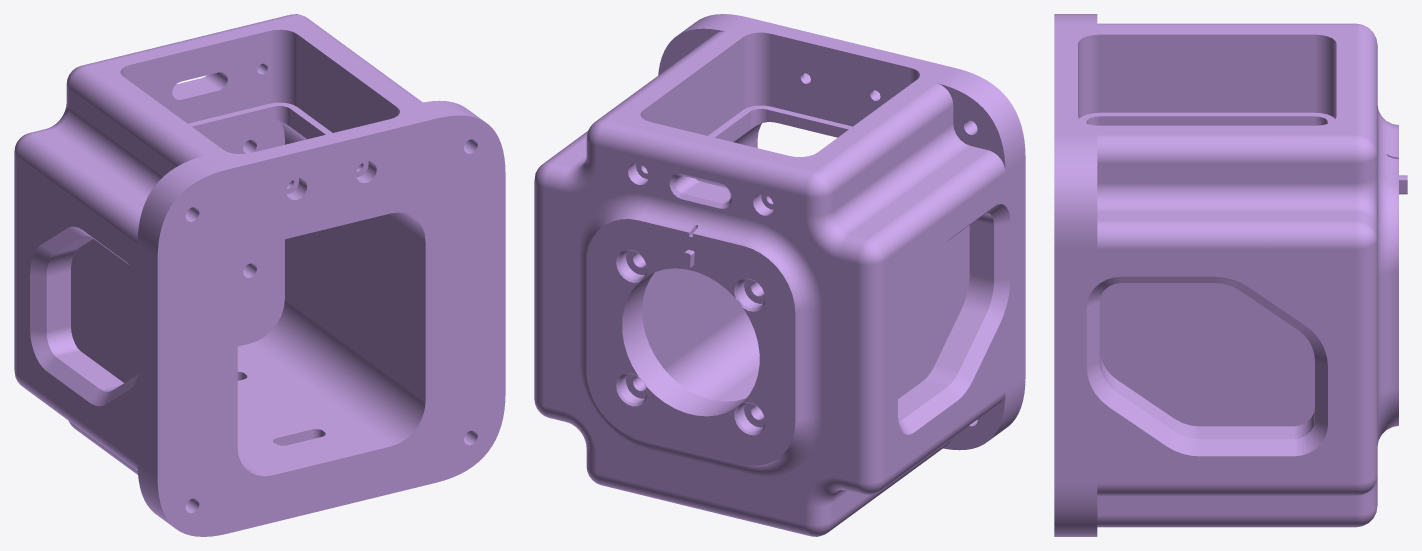
The model's file is Main_Base.001.dae.
3 views of the same model, side by side, from view 1: azimuth 30°, elevation 25°; view 2: azimuth 150°, elevation 25°; view 3: azimuth 270°, elevation 25° (orthographic). The views are drawn at different scales.
Visible parts, largest first — view 1: Main_Base.000; view 2: Main_Base.000; view 3: Main_Base.000.
Part boxes in pixels (x1,y1,x2,y2): Main_Base.000: (14, 14, 505, 536); Main_Base.000: (534, 14, 1025, 536); Main_Base.000: (1054, 14, 1407, 536).
Bounding box in the file's own units: 0.1 × 0.082 × 0.1.
